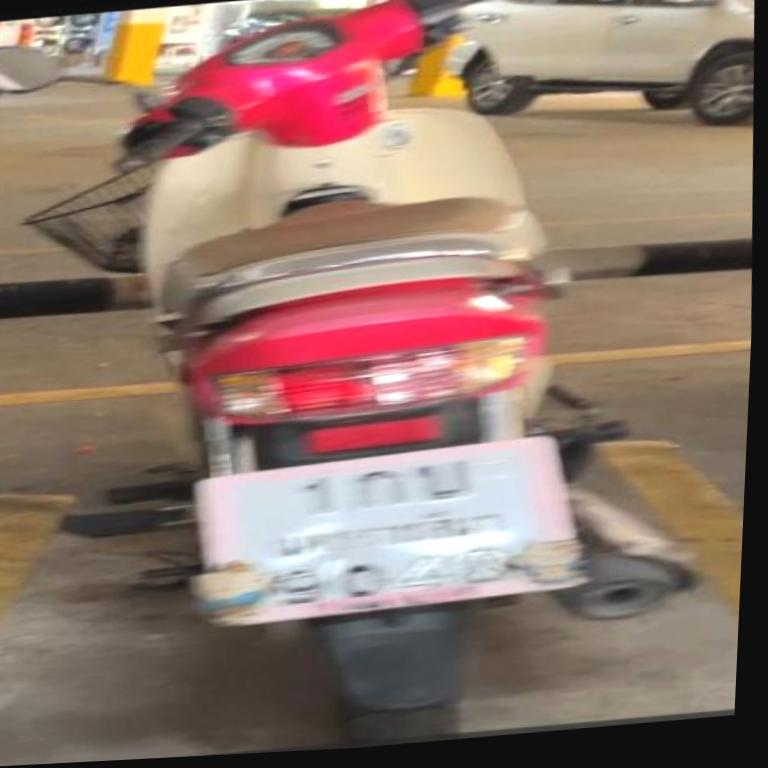license plate: (194, 433, 589, 630)
